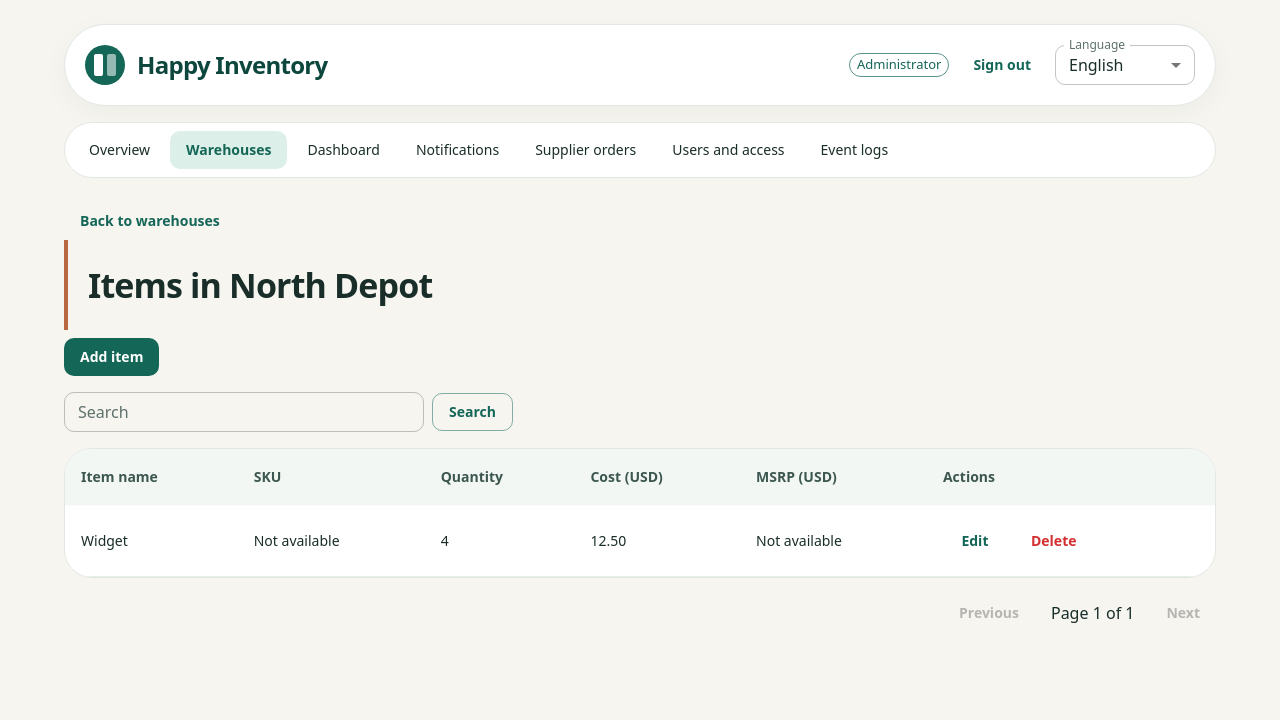
Test: Phase 4 screens › rejects an invalid item price before sending a write
The image size is (1280, 720).
Expected: the text "Widget" is shown, [65,506,238,576]
Step 1. Click the button "Add item" → point(112, 357), box [64,338,159,376]
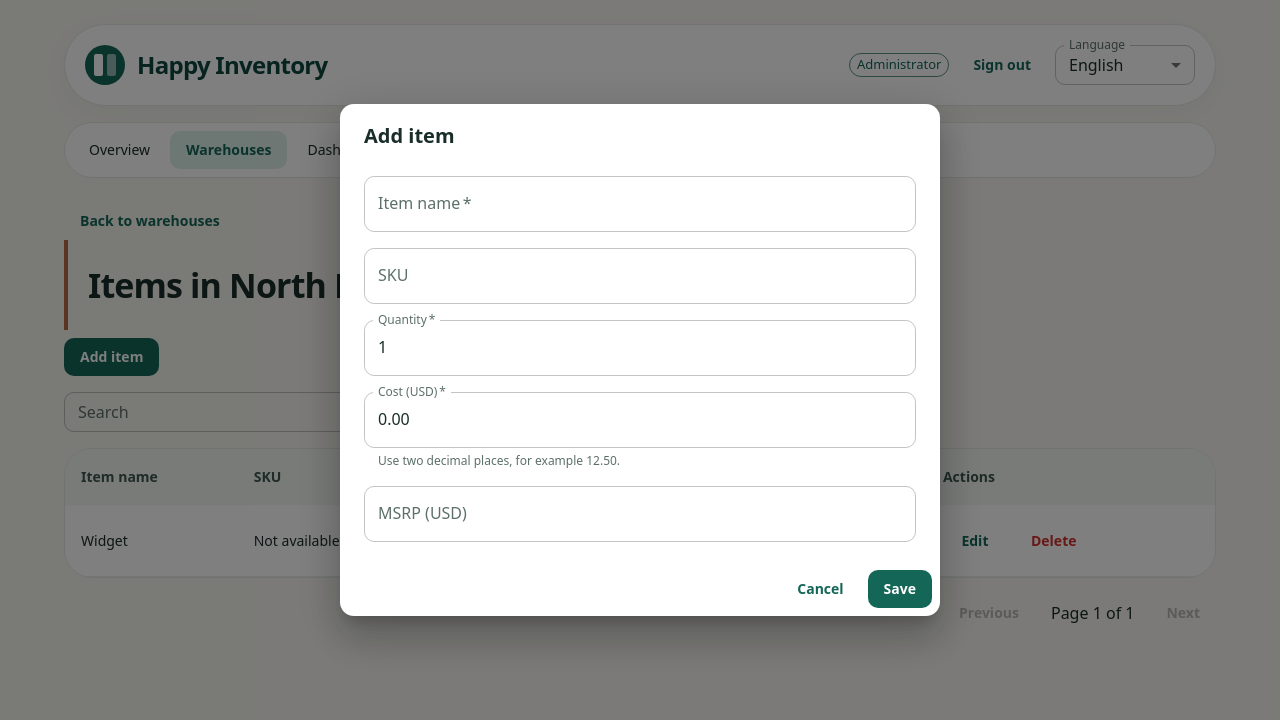
Step 2. Type "Invalid widget" into the field labelled "Item name" → point(640, 204), box [364,176,916,232]
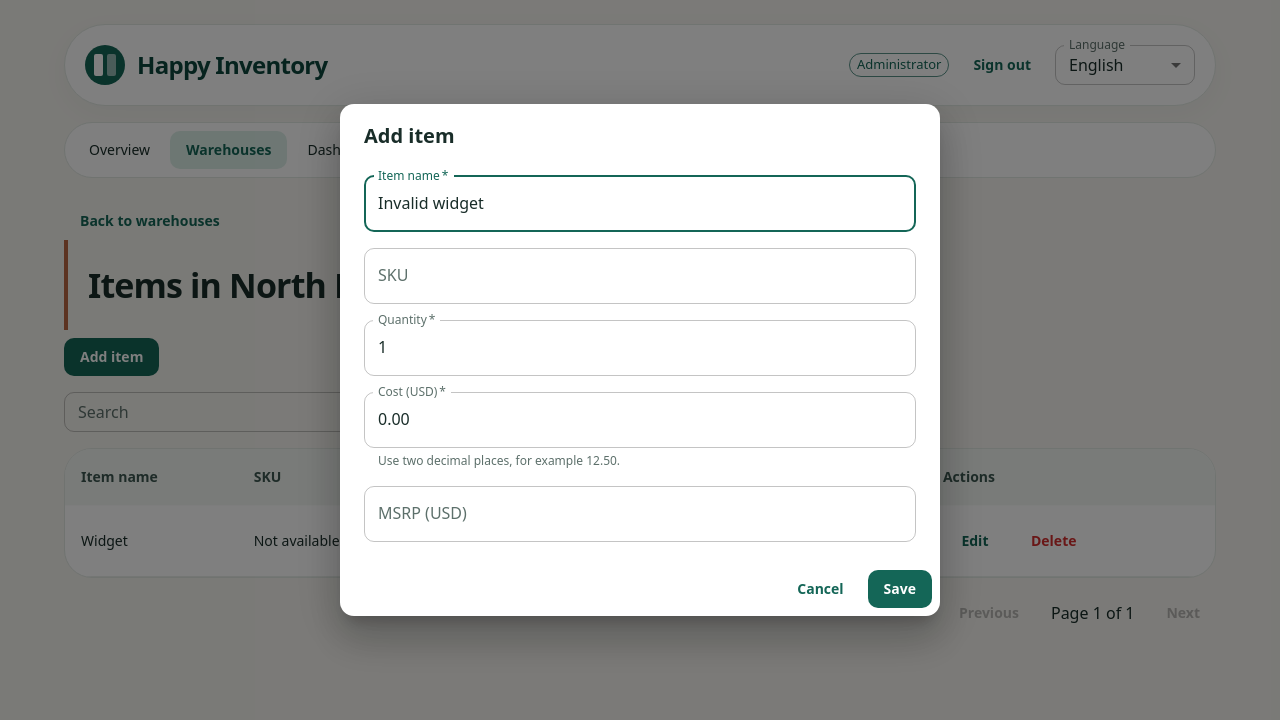
Step 3. Replace the text in the field labelled "Cost (USD)" with "1.234" → point(640, 420), box [364,392,916,448]
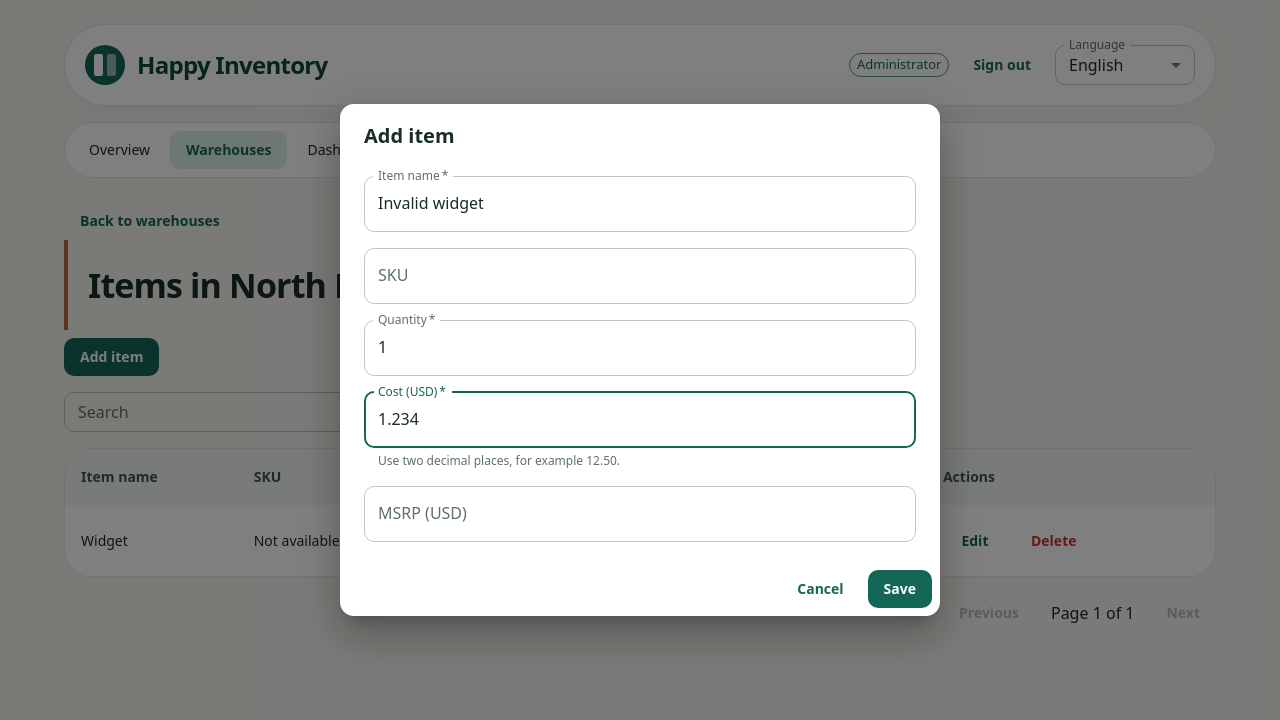
Step 4. Click the button "Save" → point(900, 590), box [868,570,932,608]
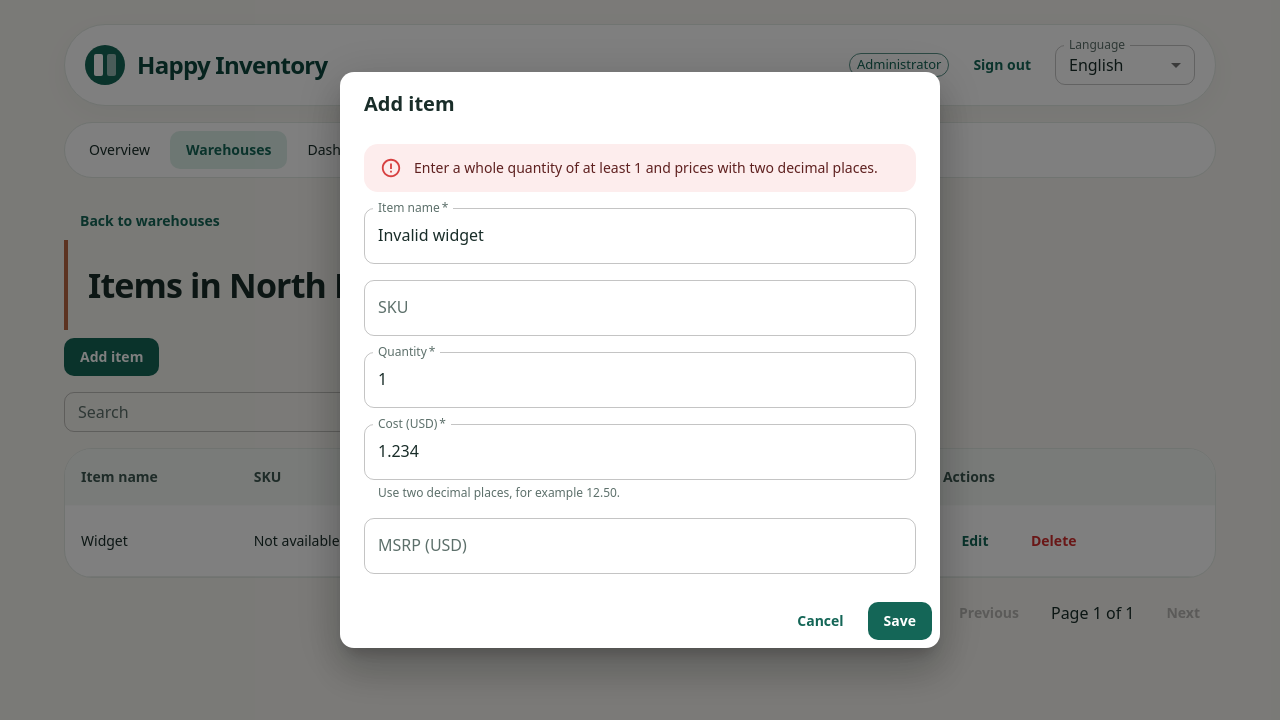
Expected: the text "Enter a whole quantity of at least 1 and prices with two decimal places." is shown, [414,158,878,176]
